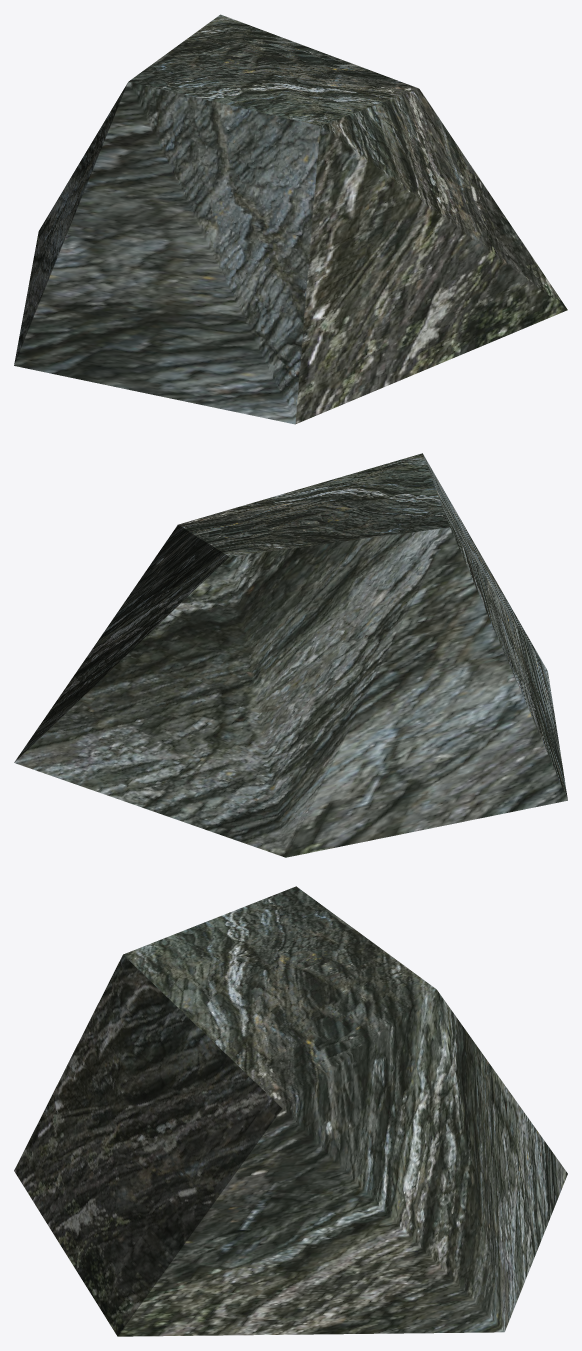
The model's file is Stone.fbx.
3 views of the same model, one above another, from view 1: azimuth 30°, elevation 25°; view 2: azimuth 150°, elevation 25°; view 3: azimuth 270°, elevation 25° (orthographic). The views are drawn at different scales.
Parts seen in each view (by area): view 1: Cube.026; view 2: Cube.026; view 3: Cube.026.
Boxes of the visible parts, bbox=[...] form: Cube.026: bbox=[14, 14, 567, 424]; Cube.026: bbox=[14, 453, 567, 857]; Cube.026: bbox=[14, 886, 567, 1336].
Bounding box in the file's own units: 2.25 × 1.15 × 2.16.
Materials: 1 (1 with a texture image).
